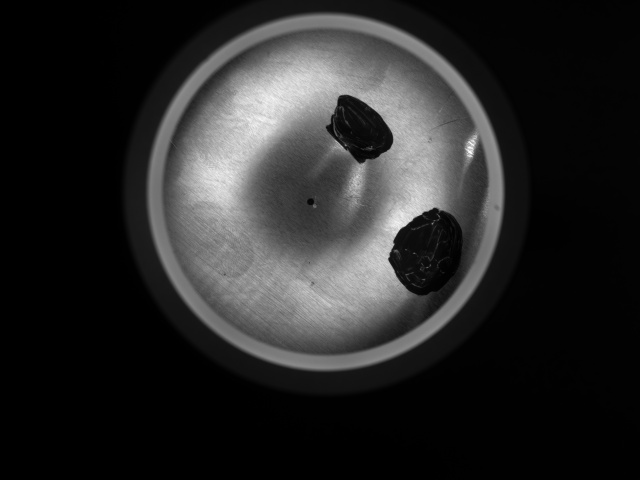zang_wu: (386, 207, 465, 296), (325, 92, 395, 164)
zhen_kong: (306, 197, 317, 208)
